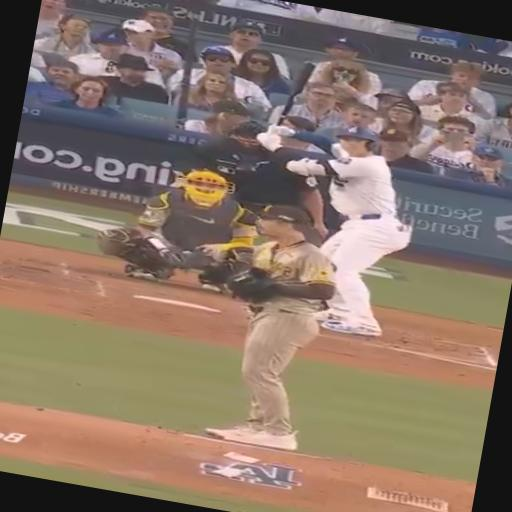bat: (277, 62, 314, 124)
